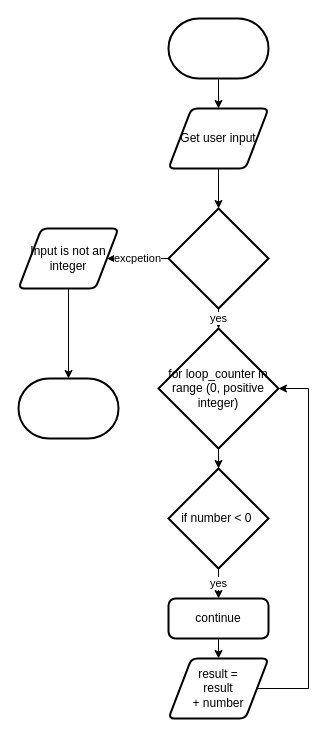
Some shapes in this 334 by 736 pixel diagram are drawn without their labels. The box of each missing label's shape, as (x1, y1, x2, y2) in pixels:
Start: (167, 17, 269, 79)
Stop: (17, 377, 119, 439)
Try: (167, 207, 269, 309)
